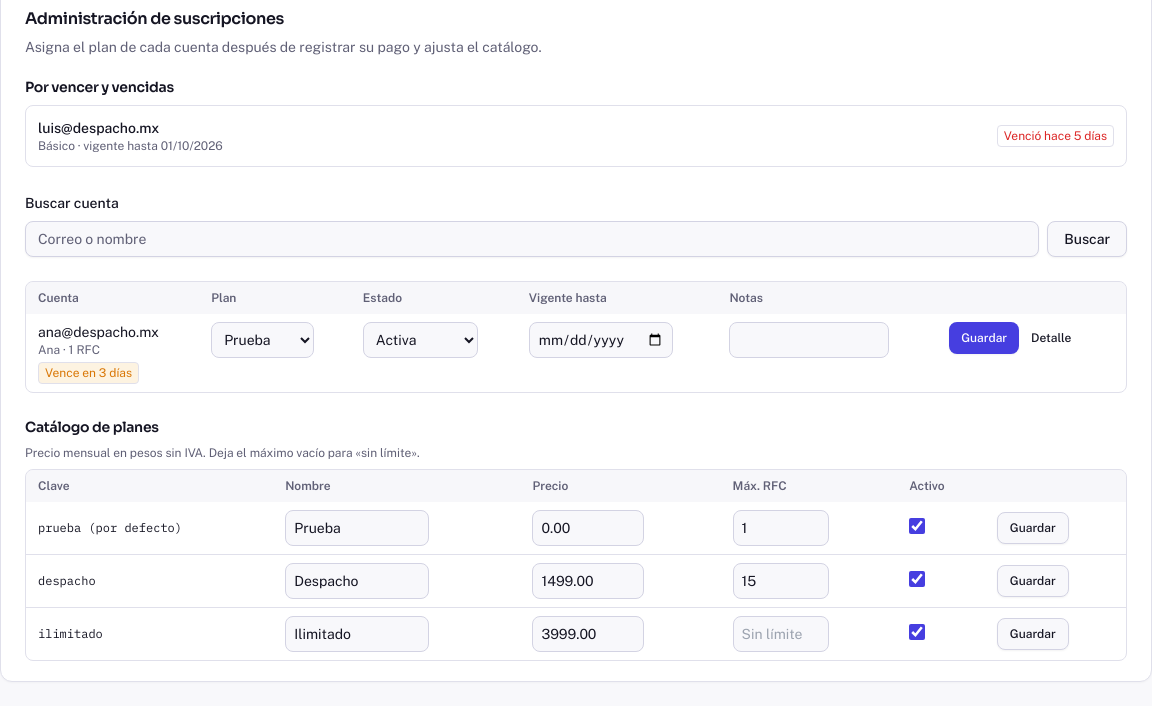
Scenario: AdminSuscripciones › el administrador anula un pago con motivo
Click the button with aria-label "Detalle de ana@despacho.mx" at (1051, 338), box left=1019, top=322, right=1083, bottom=354
(page scrolled)
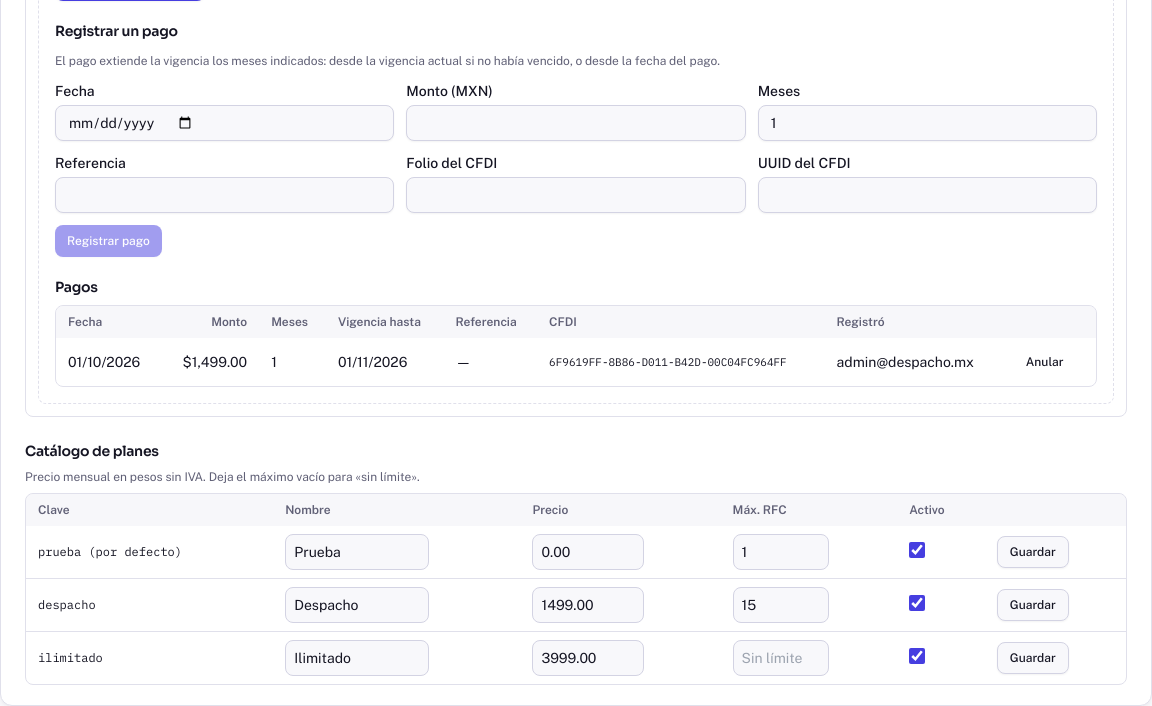
Expected: the text "6F9619FF-8B86-D011-B42D-00C04FC964FF" is shown, left=549, top=352, right=812, bottom=372
Click the button with aria-label "Anular pago del 01/10/2026" at (1045, 362), box left=1014, top=346, right=1076, bottom=378
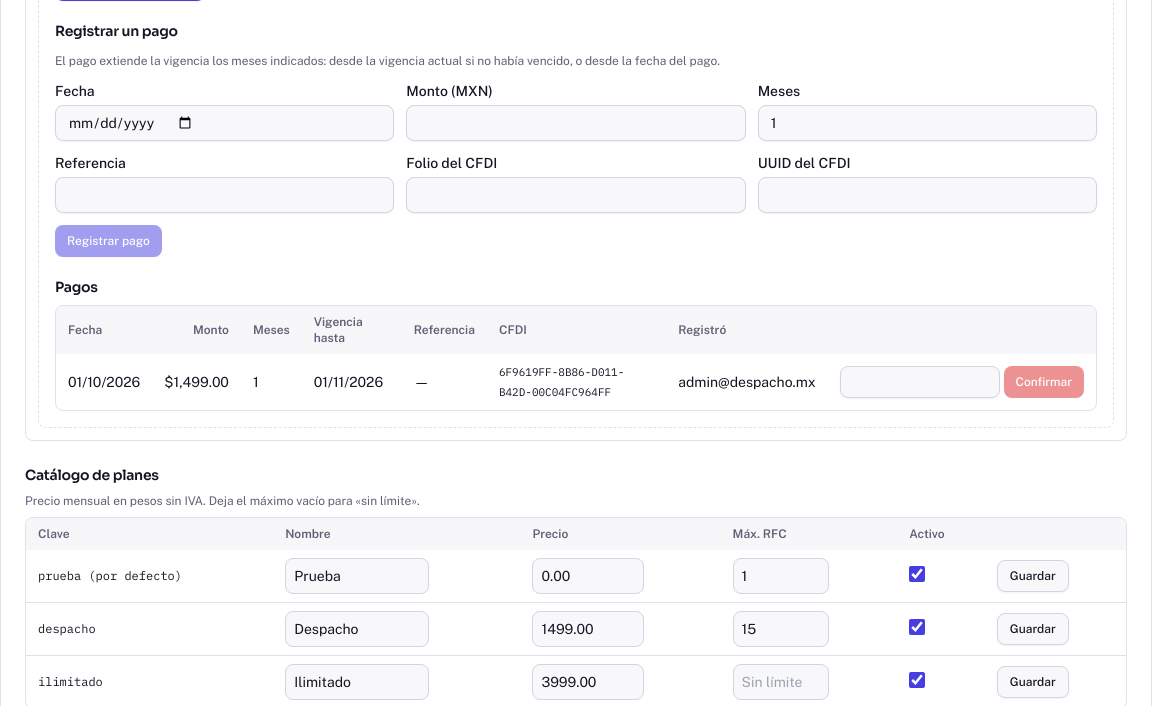
Expected: the button "Confirmar" is disabled, left=1004, top=366, right=1084, bottom=398
Type "duplicado" into the field named "Motivo de la anulación" at (920, 382), box left=840, top=366, right=1000, bottom=398
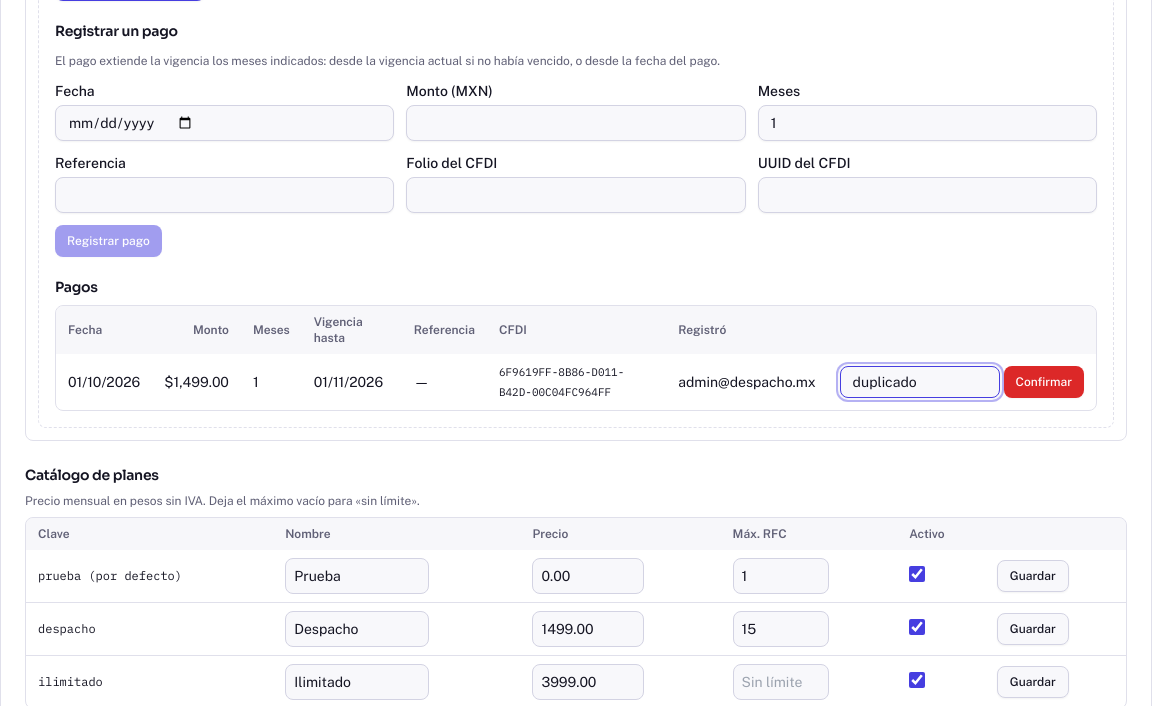
Click the button "Confirmar" at (1044, 382), box left=1004, top=366, right=1084, bottom=398
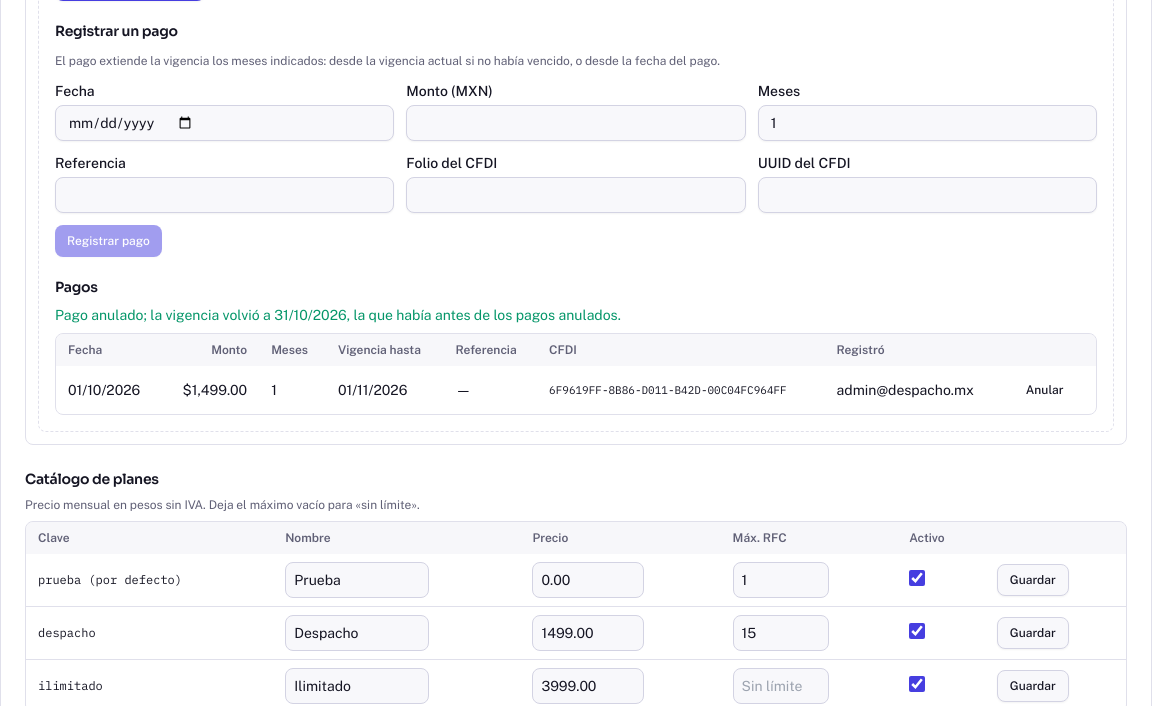
Expected: the text "la vigencia volvió a 31/10/2026" is shown, left=55, top=307, right=621, bottom=323
